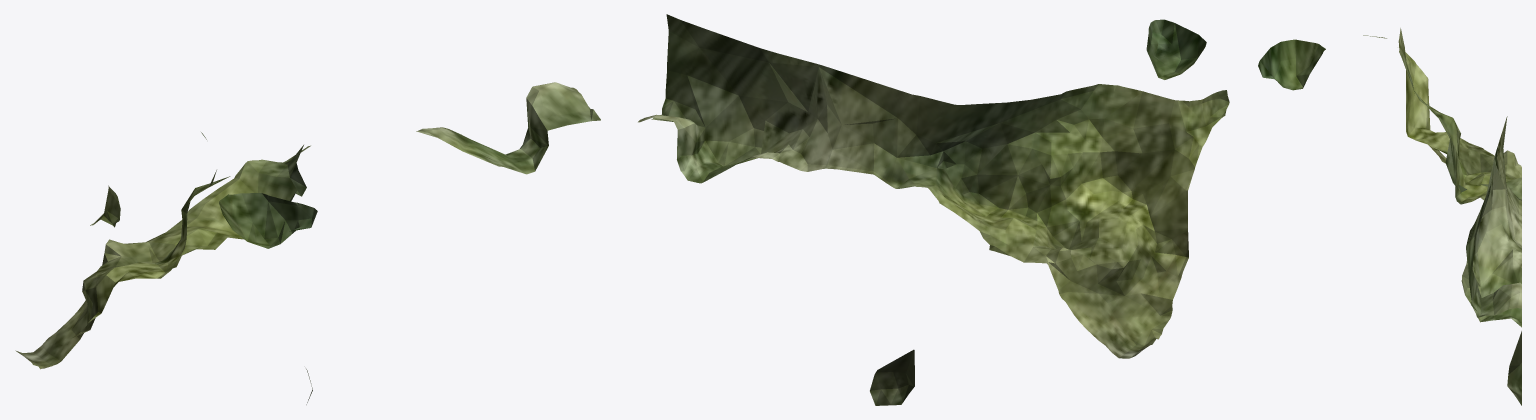
3 views of the same model, side by side, from view 1: azimuth 30°, elevation 25°; view 2: azimuth 150°, elevation 25°; view 3: azimuth 270°, elevation 25° (orthographic). The views are drawn at different scales.
Size of the model in its own units: 5.9 by 3.54 by 3.03.
Materials: 1 (1 with a texture image).
